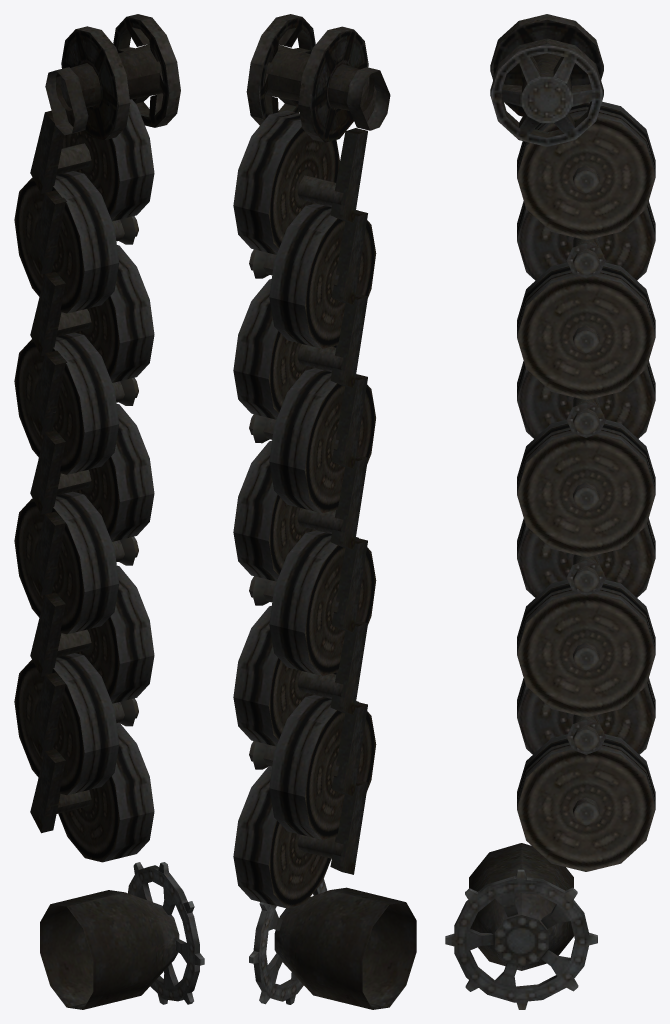
File: ChassisL.obj
The picture shows the model from 3 angles, left to right: view 1: azimuth 30°, elevation 25°; view 2: azimuth 150°, elevation 25°; view 3: azimuth 270°, elevation 25°; orthographic projection. The views are drawn at different scales.
Parts seen in each view (by area): view 1: 3D_Object_3; view 2: 3D_Object_3; view 3: 3D_Object_3.
Boxes of the visible parts, x1=… form: 3D_Object_3: x1=14, y1=14, x2=204, y2=1009; 3D_Object_3: x1=233, y1=14, x2=416, y2=1009; 3D_Object_3: x1=445, y1=14, x2=655, y2=1009.
Bounding box in the file's own units: 0.7389 × 6.4 × 1.26.
Materials: 1 (1 with a texture image).
